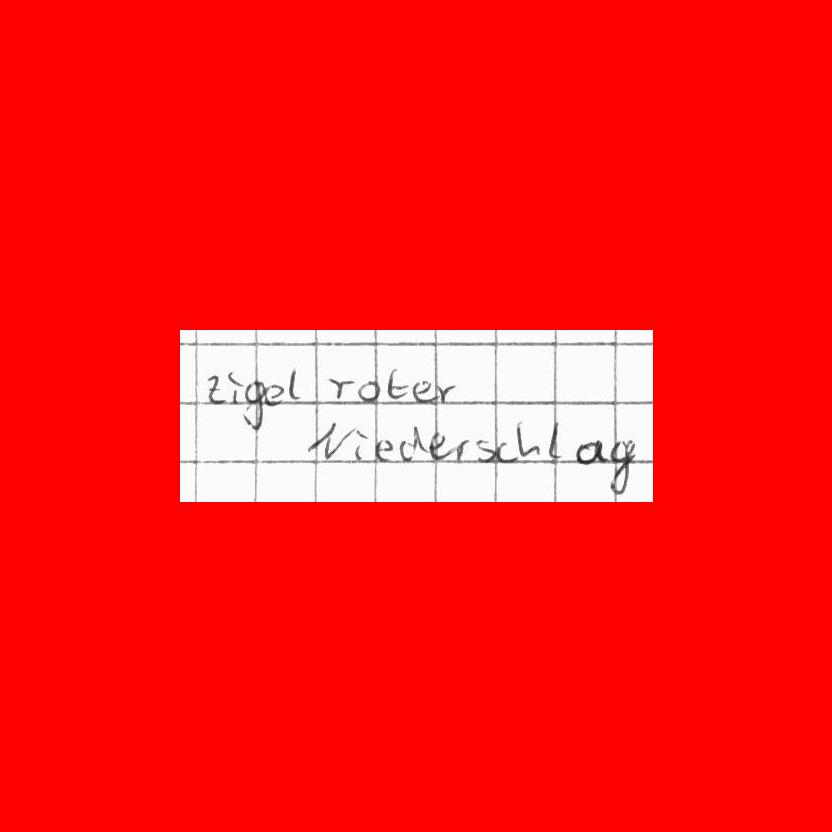Char: (605, 438, 638, 496), (306, 417, 345, 461), (243, 377, 263, 432), (516, 419, 541, 459), (399, 424, 422, 462), (385, 367, 407, 402), (575, 437, 602, 465), (285, 367, 306, 402), (349, 429, 371, 462), (327, 375, 351, 403), (546, 421, 563, 459), (355, 378, 380, 403), (206, 373, 226, 404), (374, 436, 396, 463), (448, 436, 470, 463), (427, 430, 447, 459), (495, 440, 519, 464), (410, 379, 435, 402), (473, 438, 495, 462), (264, 379, 284, 404), (435, 380, 456, 403), (229, 370, 242, 404)
